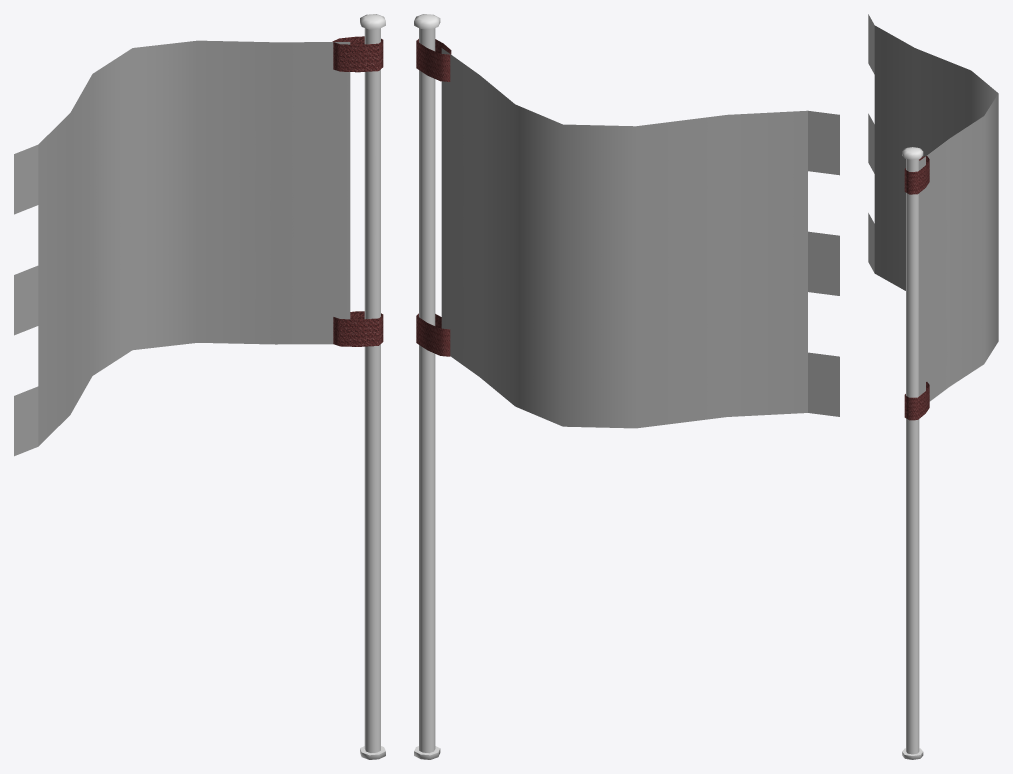
Rendered from wall_flag.fbx.
3 views of the same model, side by side, from view 1: azimuth 30°, elevation 25°; view 2: azimuth 150°, elevation 25°; view 3: azimuth 270°, elevation 25° (orthographic). The views are drawn at different scales.
Visible parts, largest first — view 1: Muralla3.226; view 2: Muralla3.226; view 3: Muralla3.226.
Boxes of the visible parts, x1=… form: Muralla3.226: x1=14, y1=14, x2=385, y2=759; Muralla3.226: x1=414, y1=14, x2=839, y2=759; Muralla3.226: x1=868, y1=14, x2=998, y2=759.
Bounding box in the file's own units: 42.75 × 76.27 × 14.76.
Materials: 3 (1 with a texture image).
